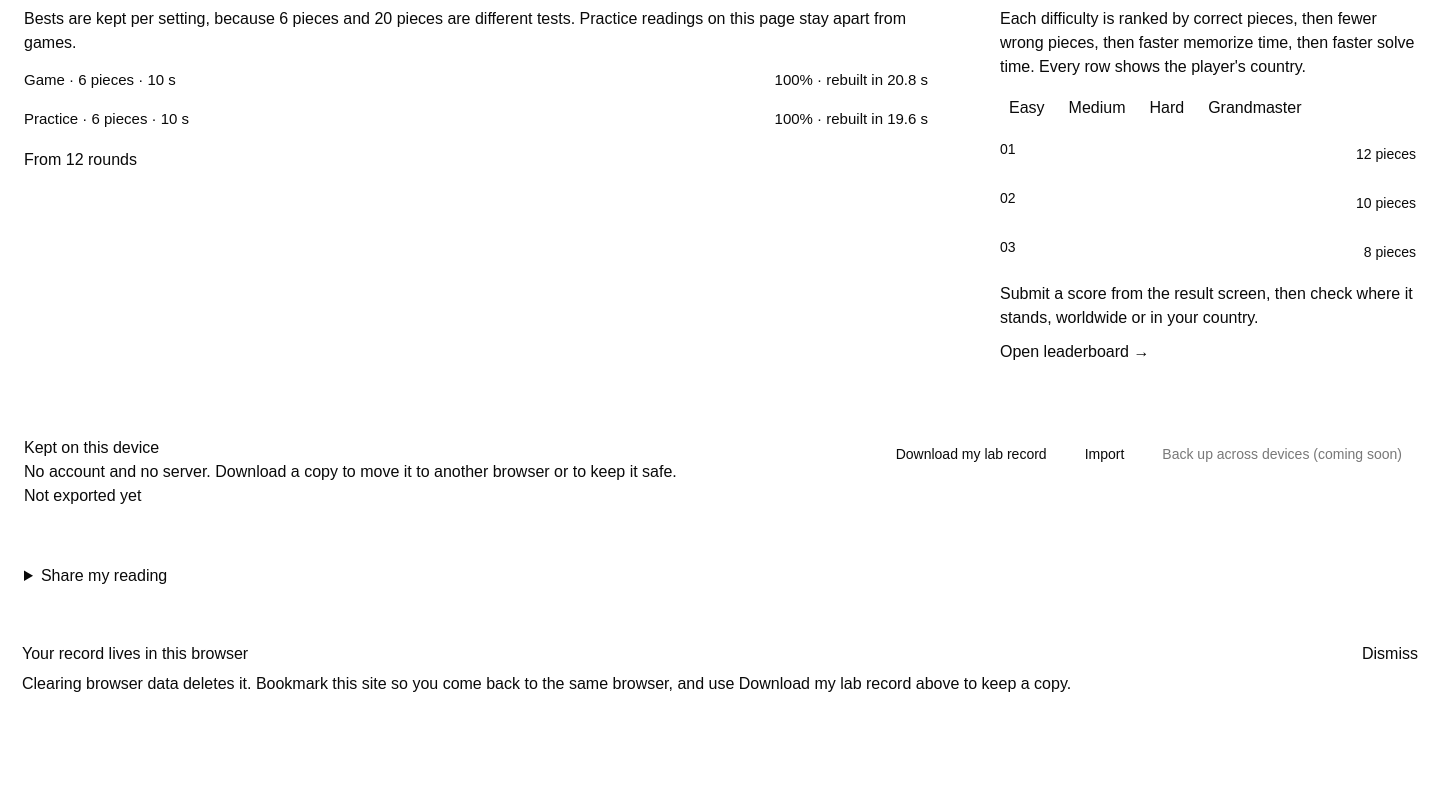
the note that the record lives in this browser › shows once to a player back on a second day, and stays dismissed
(page scrolled)
Check: the text "Your record lives in this browser" is shown, box x1=22 y1=645 x2=248 y2=662
Check: the text "Clearing browser data deletes it. Bookmark this site so you come back to the same browser, and use Download my lab recor" is shown, box x1=22 y1=675 x2=1071 y2=692
Click the button "Dismiss". click: click(1390, 654)
box: x1=1362 y1=642 x2=1418 y2=666
(page scrolled)
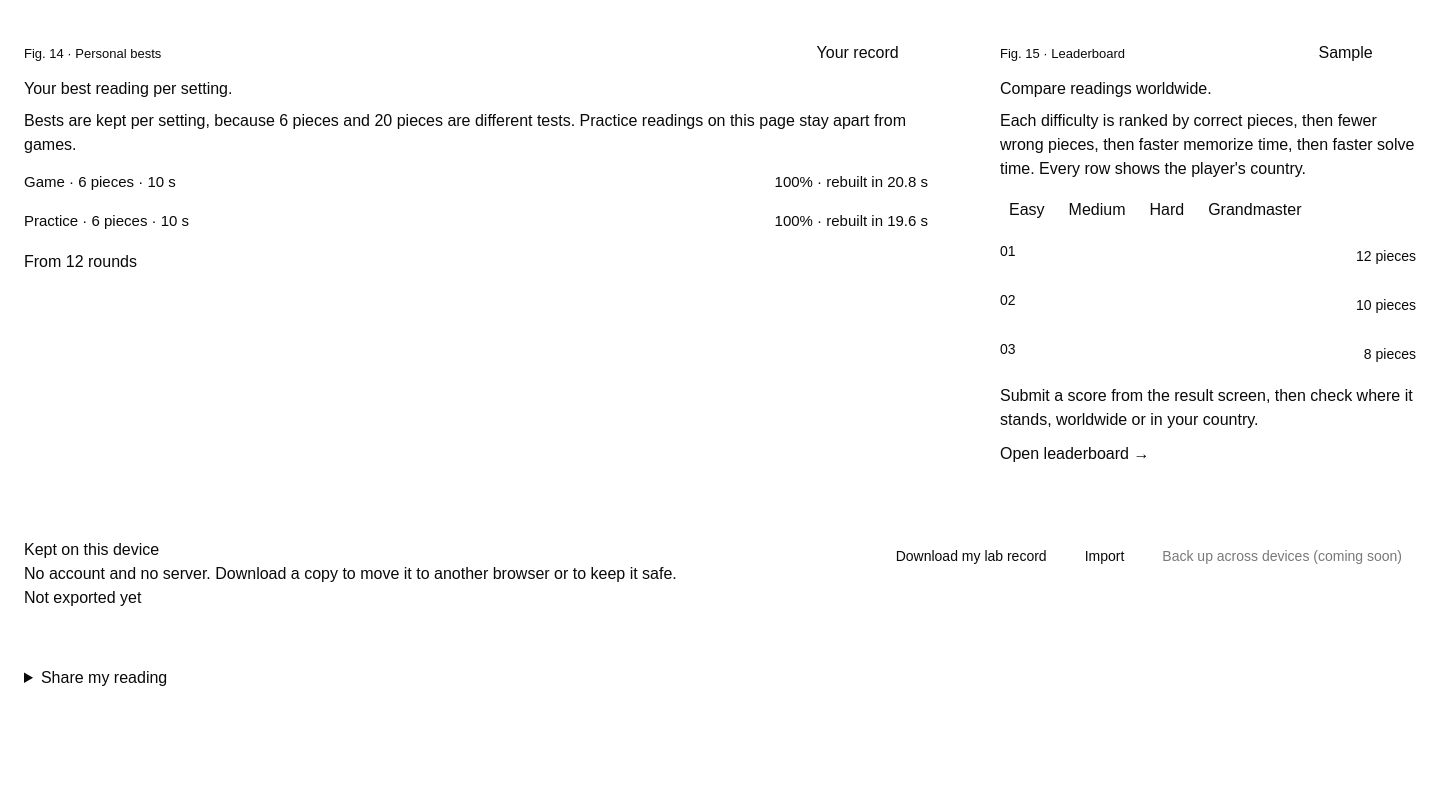
Check: the text "Your record lives in this browser" is gone
